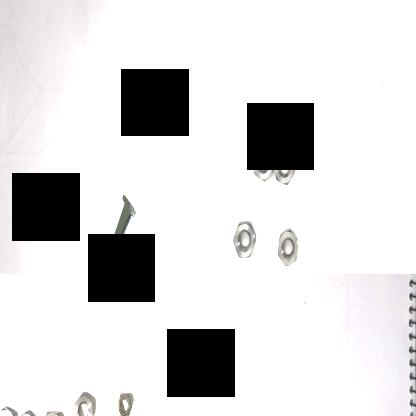Bolts: (115, 198, 139, 255)
NUTS: (230, 213, 258, 263), (251, 136, 276, 183), (276, 228, 300, 270), (272, 144, 296, 186), (70, 391, 96, 416), (115, 387, 135, 416), (40, 405, 64, 416), (0, 403, 18, 416), (16, 405, 36, 416)
